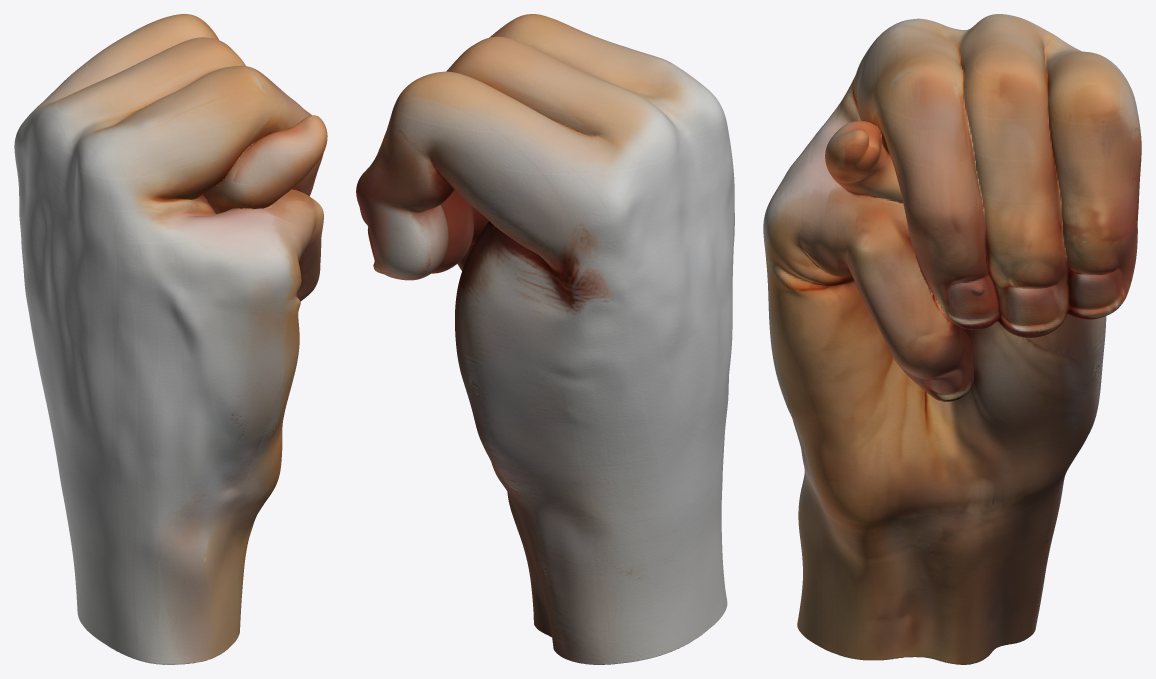
The model's file is letter_M.glb.
3 views of the same model, side by side, from view 1: azimuth 30°, elevation 25°; view 2: azimuth 150°, elevation 25°; view 3: azimuth 270°, elevation 25° (orthographic). The views are drawn at different scales.
Visible parts, largest first — view 1: tripo_node_4eeba7ab-03a0-462c-bf6b-ed2cdcf1524d; view 2: tripo_node_4eeba7ab-03a0-462c-bf6b-ed2cdcf1524d; view 3: tripo_node_4eeba7ab-03a0-462c-bf6b-ed2cdcf1524d.
Boxes of the visible parts, bbox=[...] form: tripo_node_4eeba7ab-03a0-462c-bf6b-ed2cdcf1524d: bbox=[14, 14, 327, 664]; tripo_node_4eeba7ab-03a0-462c-bf6b-ed2cdcf1524d: bbox=[356, 14, 734, 664]; tripo_node_4eeba7ab-03a0-462c-bf6b-ed2cdcf1524d: bbox=[763, 14, 1141, 664].
Bounding box in the file's own units: 0.5224 × 1 × 0.556.
1 material, 1 textured.
